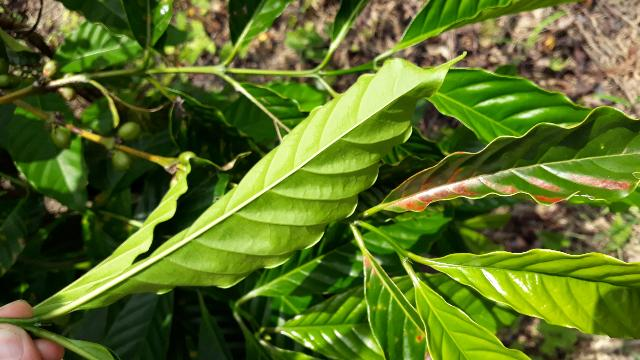healthy: (63, 44, 473, 312)
